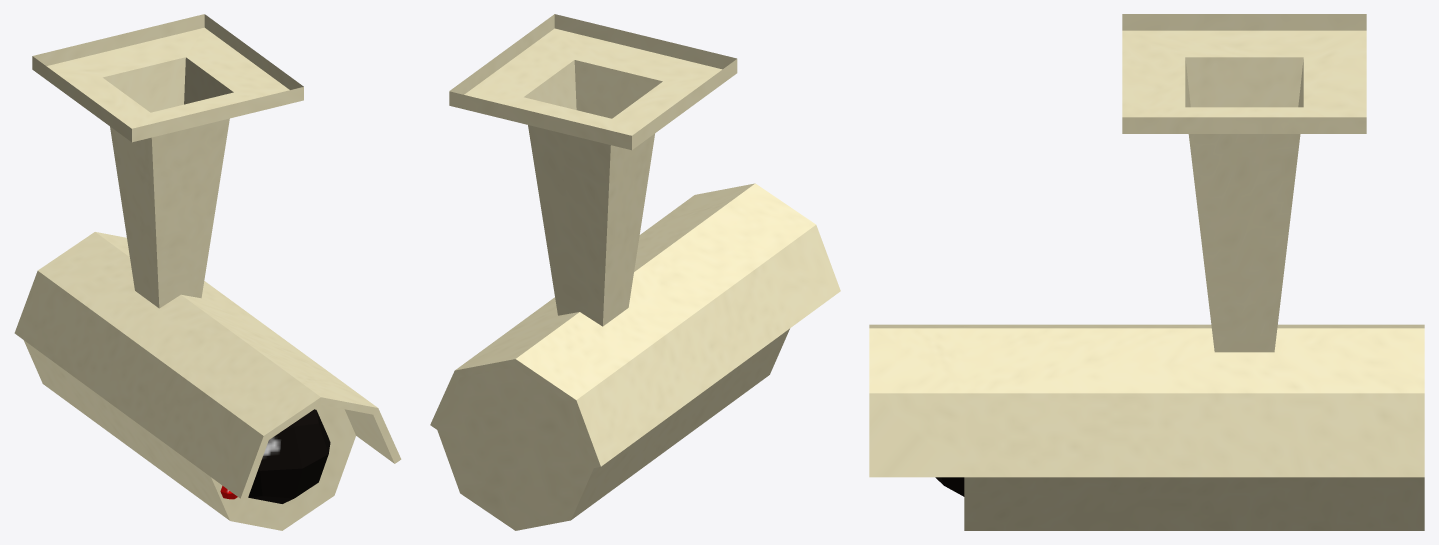
The model's file is Camera.fbx.
3 views of the same model, side by side, from view 1: azimuth 30°, elevation 25°; view 2: azimuth 150°, elevation 25°; view 3: azimuth 270°, elevation 25° (orthographic). The views are drawn at different scales.
Parts seen in each view (by area): view 1: camera; view 2: camera; view 3: camera.
Part boxes in pixels (box(x1,y1,x2,y2)): camera: box(14, 14, 401, 530); camera: box(430, 14, 840, 530); camera: box(869, 14, 1424, 530).
Size of the model in its own units: 25.86 by 53.97 by 58.79.
